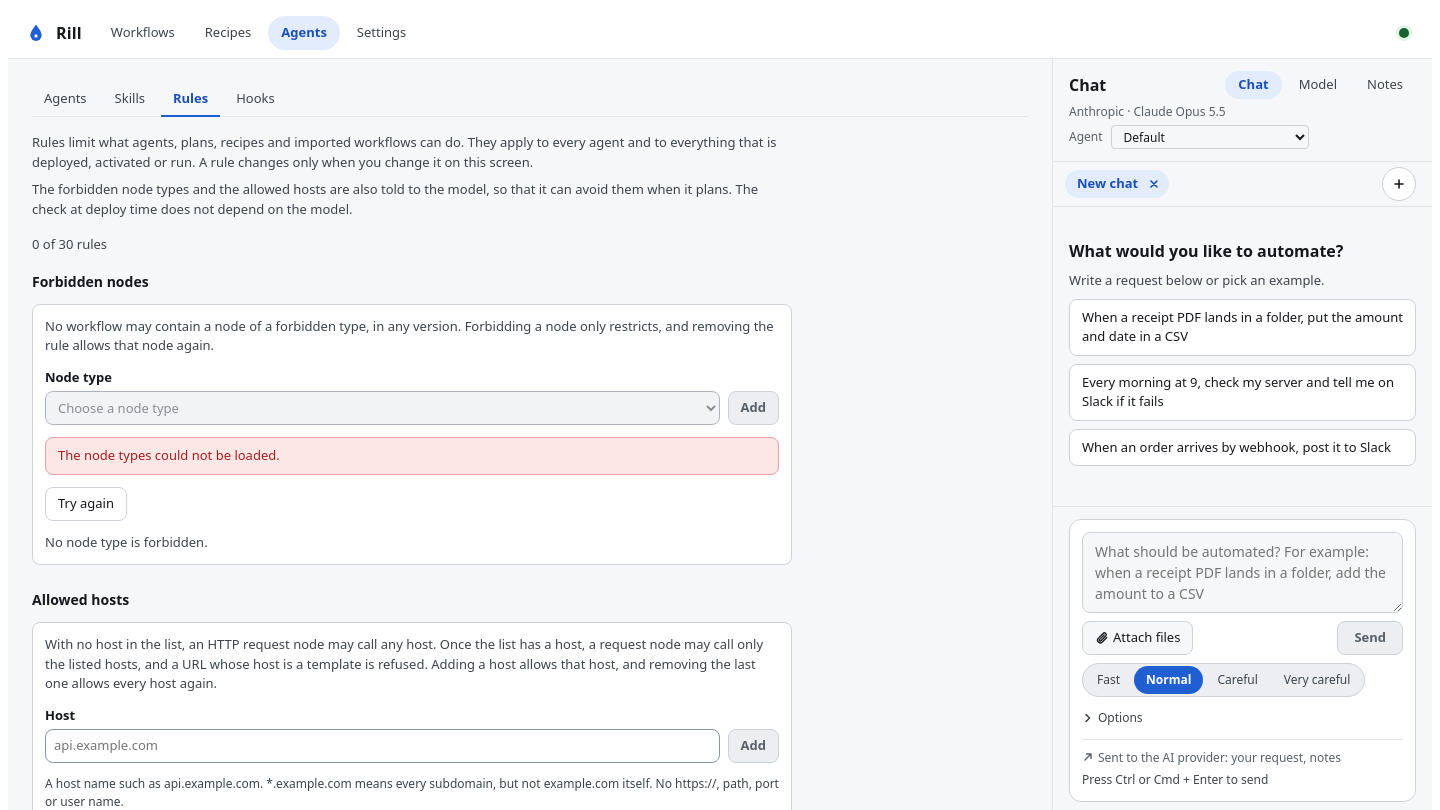
Test: the Agents tab of the app › says the node types could not be loaded, and loads them again on Try again
This screenshot has width=1440, height=810.
Expected: the text "The node types could not be loaded." is shown, [45,437,779,474]
Click the button "Try again" at (86, 504), box [45,486,127,520]
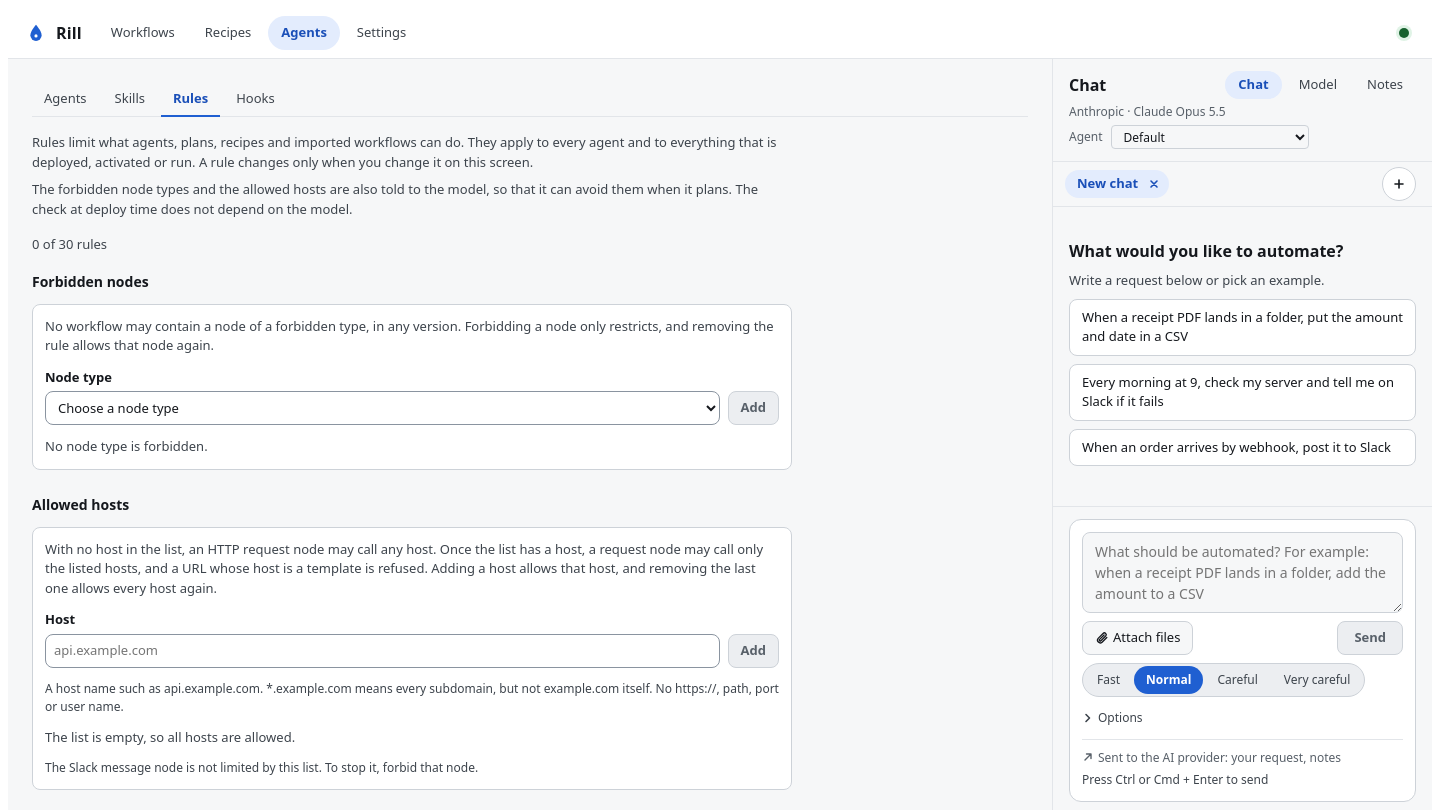
Result: the text "The node types could not be loaded." is gone
